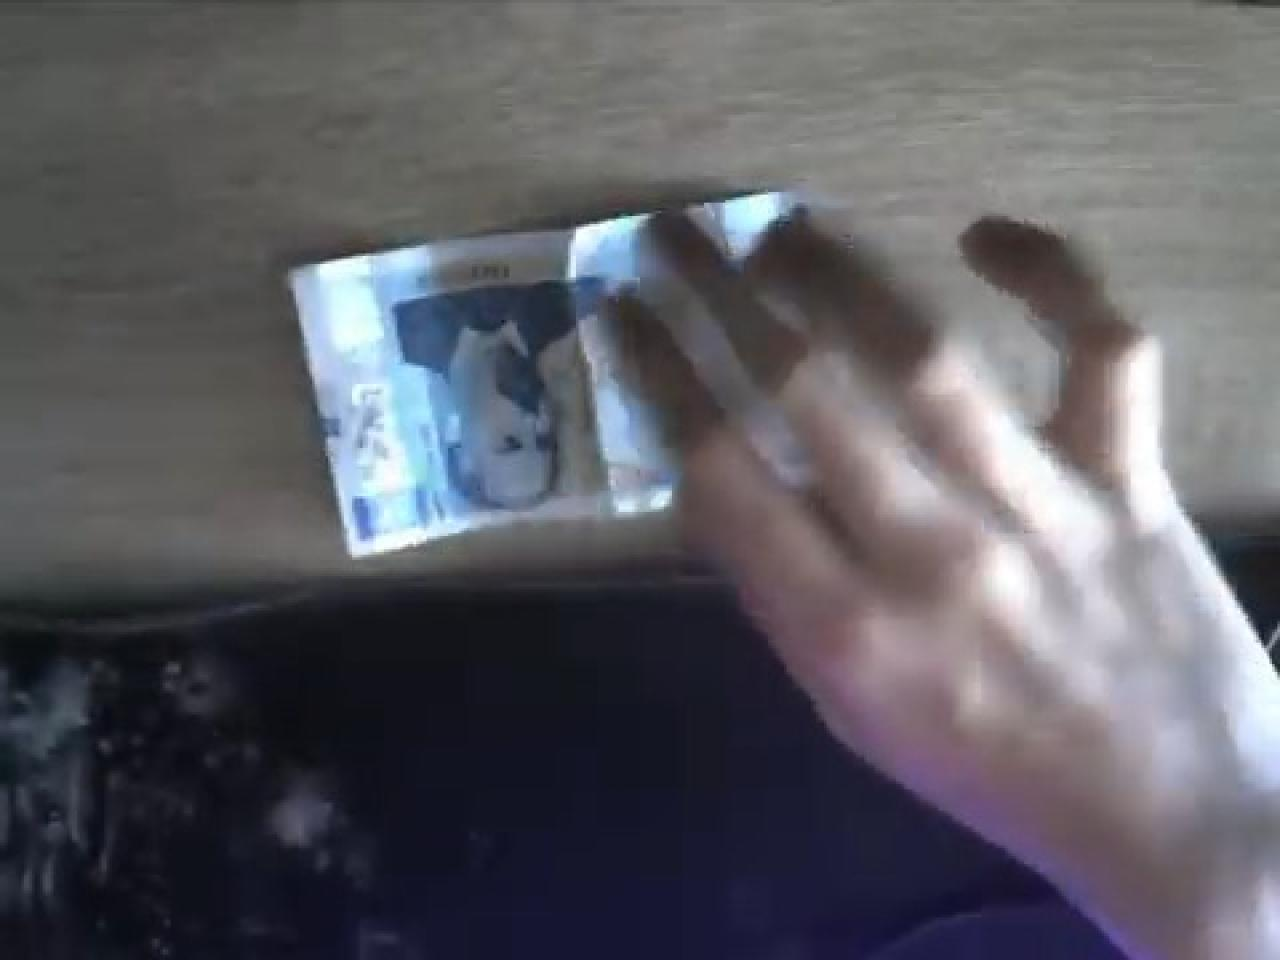20leva: (389, 279, 590, 517)
